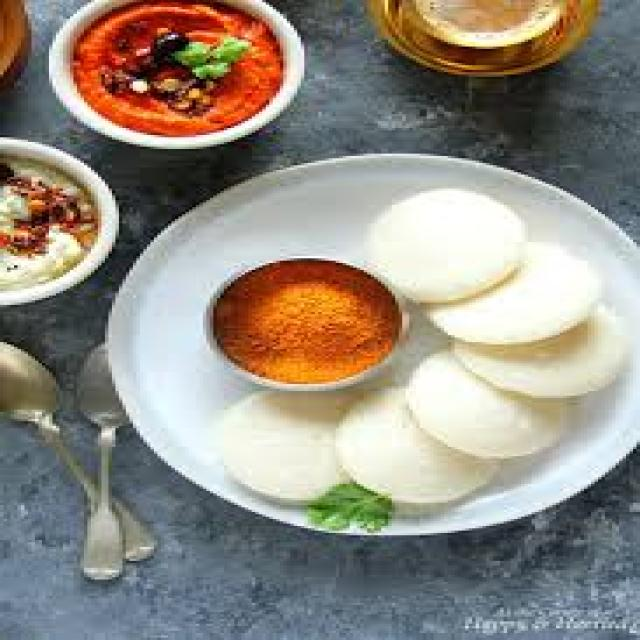IDLI: (343, 386, 493, 500), (430, 242, 598, 342), (371, 191, 521, 300), (455, 305, 626, 396), (413, 354, 563, 456), (224, 391, 350, 498)
